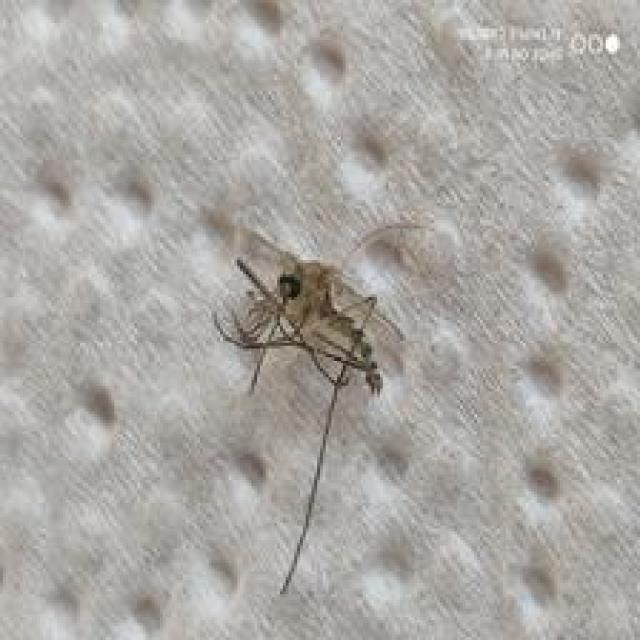Culex: (210, 217, 433, 594)
